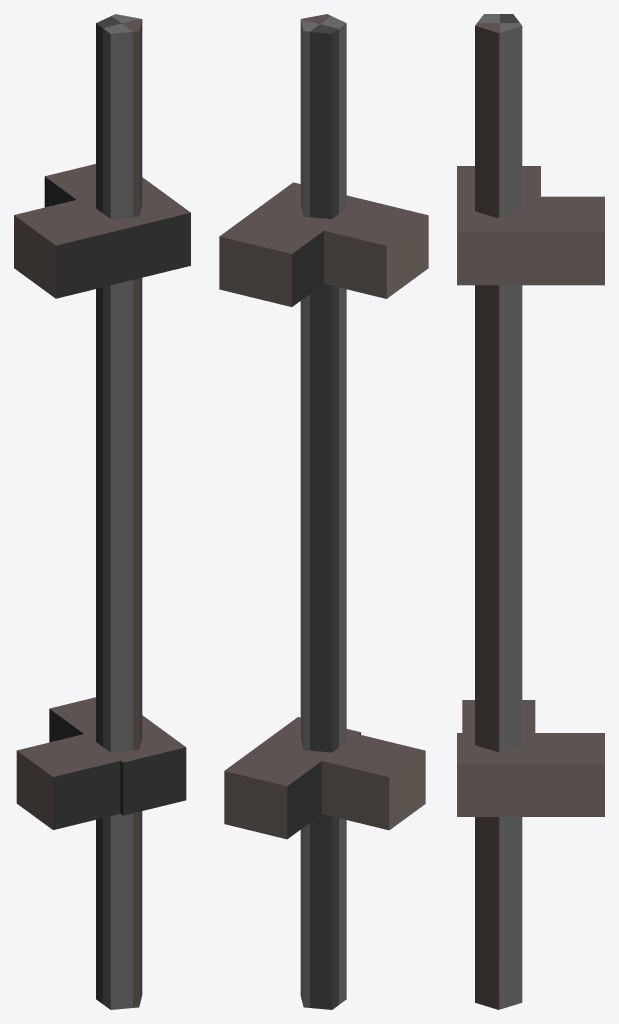
File: wall_879x20.gltf
3 renders of one model, left to right at view 1: azimuth 30°, elevation 25°; view 2: azimuth 150°, elevation 25°; view 3: azimuth 270°, elevation 25°, orthographic.
Parts seen in each view (by area): view 1: wall_879x20; view 2: wall_879x20; view 3: wall_879x20.
Boxes of the visible parts, <box> form: wall_879x20: <box>14,14,190,1009</box>; wall_879x20: <box>219,14,428,1009</box>; wall_879x20: <box>457,14,604,1009</box>.
Size of the model in its own units: 0.7165 by 4.94 by 0.6788.
1 material, 1 textured.
